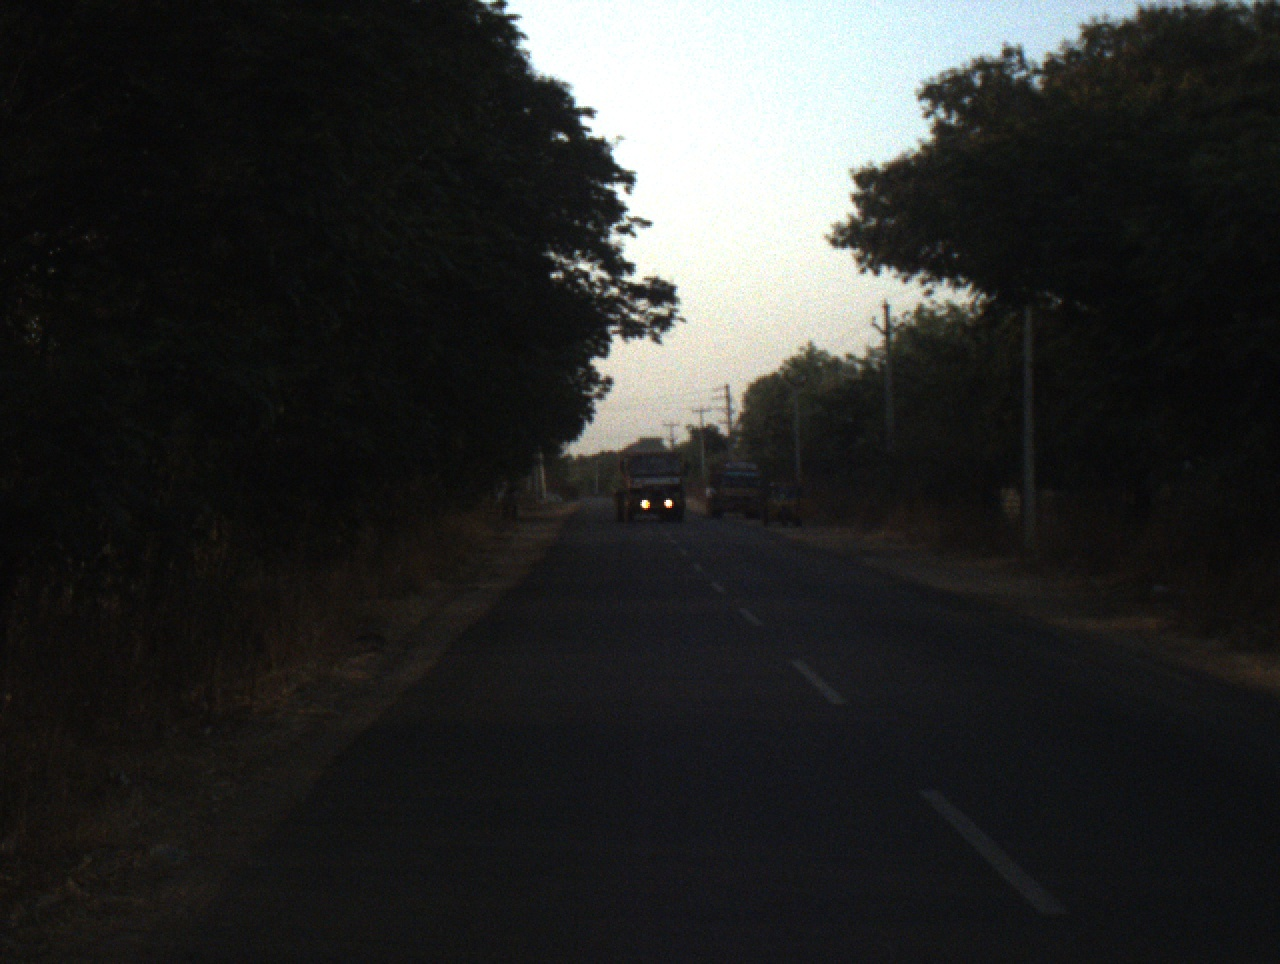autorickshaw: (760, 476, 806, 531)
person: (704, 481, 719, 520)
truck: (608, 436, 686, 525), (701, 453, 767, 523)
